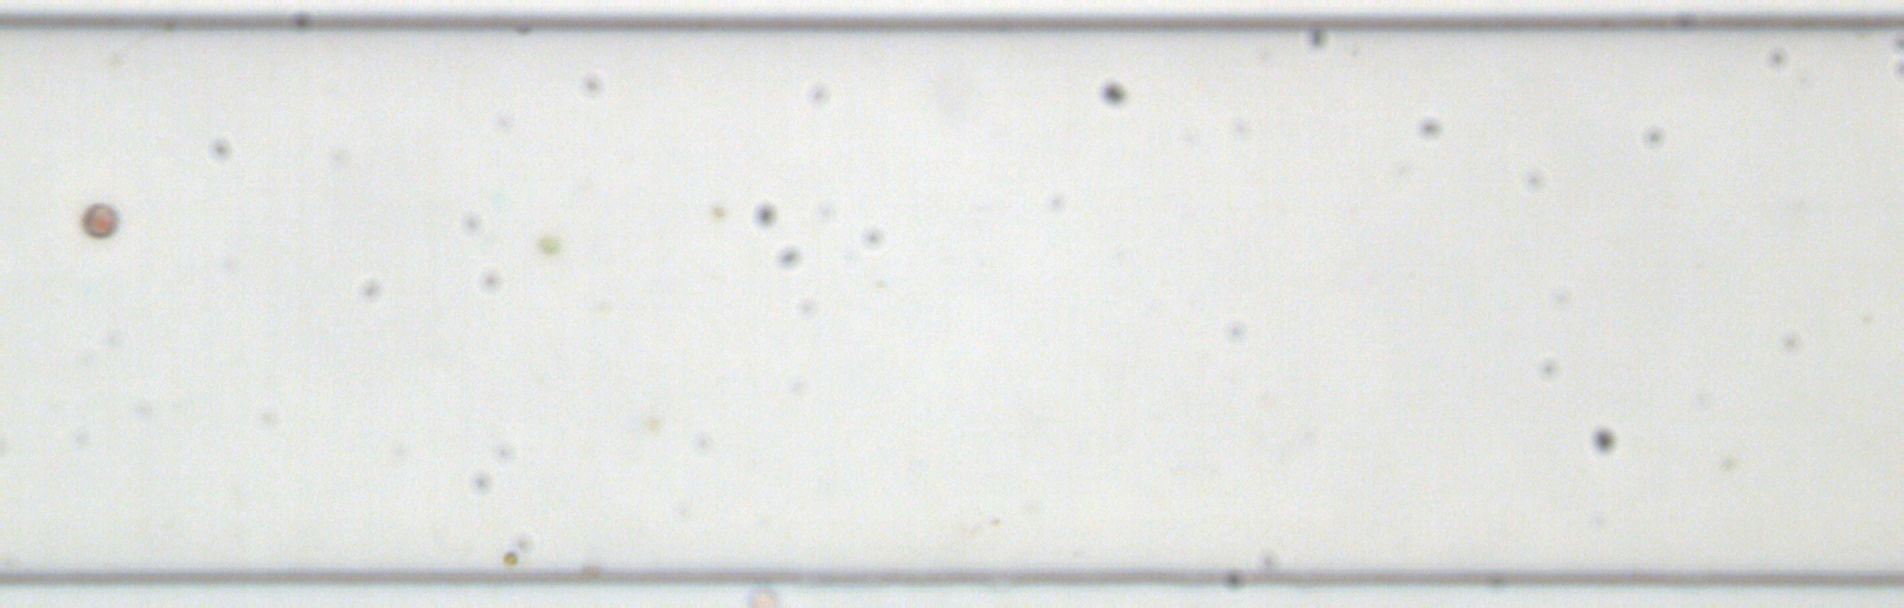Chlorella: (537, 232, 559, 254), (708, 201, 727, 218), (501, 549, 518, 566)
Porphyridium: (78, 199, 121, 239)
